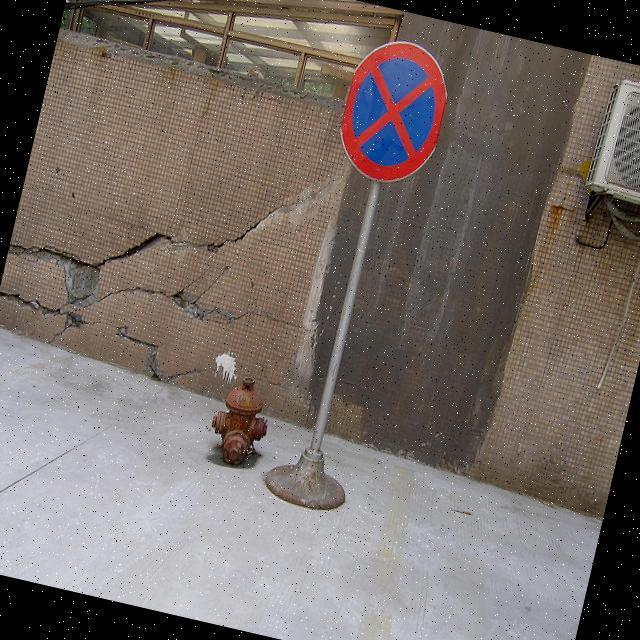fire_hydrant: (200, 368, 278, 472)
